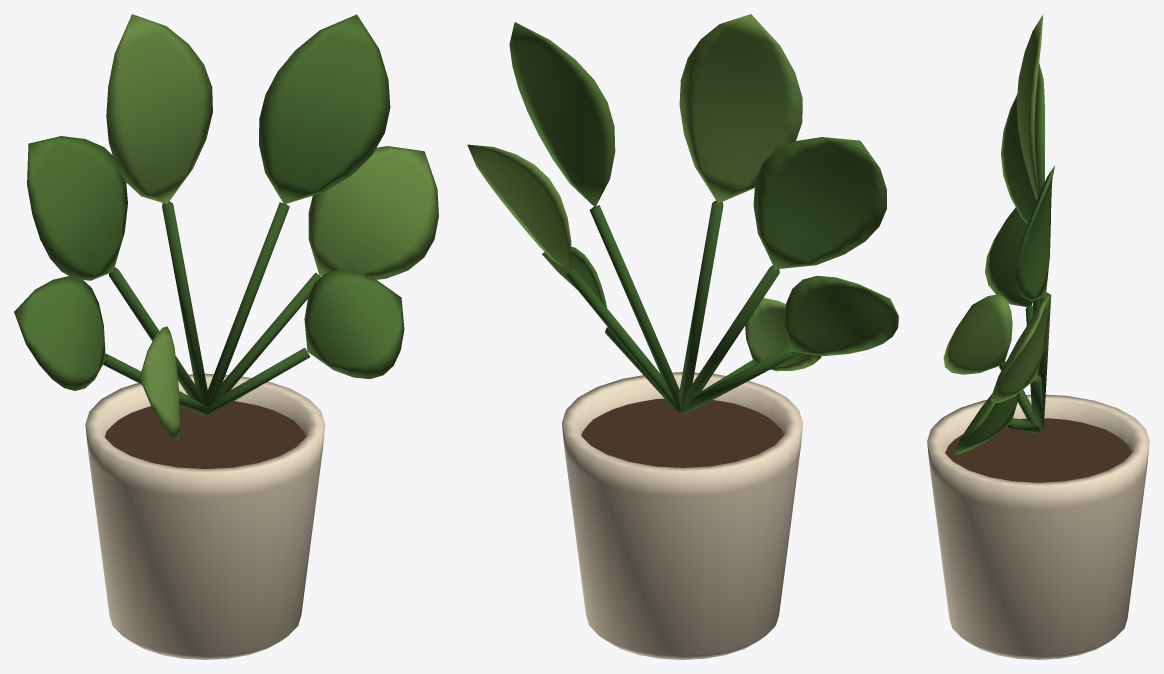
File: plant.glb
3 renders of one model, left to right at view 1: azimuth 30°, elevation 25°; view 2: azimuth 150°, elevation 25°; view 3: azimuth 270°, elevation 25°, orthographic. The views are drawn at different scales.
Parts seen in each view (by area): view 1: plant_pot, plant_leaf_1, plant_leaf_0, plant_leaf_3, plant_leaf_2, plant_soil, plant_leaf_5, plant_leaf_4, plant_leaf_6, plant_stem_1, plant_stem_0, plant_stem_3 (+2 smaller); view 2: plant_pot, plant_leaf_0, plant_leaf_2, plant_leaf_1, plant_soil, plant_leaf_4, plant_leaf_3, plant_leaf_6, plant_stem_1, plant_stem_0, plant_stem_2, plant_stem_3 (+2 smaller); view 3: plant_pot, plant_soil, plant_leaf_6, plant_leaf_2, plant_leaf_1, plant_leaf_3, plant_leaf_0, plant_leaf_4, plant_leaf_5, plant_stem_3, plant_stem_1.
Part boxes in pixels (x1,y1,x2,y2): plant_pot: (85, 373, 325, 659); plant_leaf_1: (259, 14, 390, 204); plant_leaf_0: (106, 14, 212, 203); plant_leaf_3: (308, 146, 438, 279); plant_leaf_2: (27, 136, 127, 280); plant_soil: (105, 401, 305, 468); plant_leaf_5: (304, 269, 404, 378); plant_leaf_4: (14, 276, 105, 390); plant_leaf_6: (139, 326, 180, 439); plant_stem_1: (207, 202, 289, 408); plant_stem_0: (162, 201, 209, 406); plant_stem_3: (208, 272, 320, 409); plant_pot: (562, 372, 803, 659); plant_leaf_0: (679, 14, 802, 203); plant_leaf_2: (753, 137, 886, 269); plant_leaf_1: (509, 22, 615, 207); plant_soil: (581, 398, 783, 467); plant_leaf_4: (784, 275, 898, 355); plant_leaf_3: (467, 144, 571, 270); plant_leaf_6: (745, 298, 821, 371); plant_stem_1: (589, 205, 680, 410); plant_stem_0: (678, 200, 723, 411); plant_stem_2: (680, 265, 779, 411); plant_stem_3: (566, 268, 680, 412); plant_pot: (927, 394, 1149, 659); plant_soil: (945, 418, 1131, 482); plant_leaf_6: (943, 294, 1012, 374); plant_leaf_2: (1001, 63, 1044, 224); plant_leaf_1: (1015, 166, 1054, 301); plant_leaf_3: (990, 295, 1050, 403); plant_leaf_0: (1016, 14, 1043, 199); plant_leaf_4: (985, 207, 1032, 306); plant_leaf_5: (954, 393, 1019, 454); plant_stem_3: (1031, 374, 1043, 432); plant_stem_1: (1037, 292, 1051, 424).
Bounding box in the file's own units: 0.9442 × 1.35 × 0.47.
